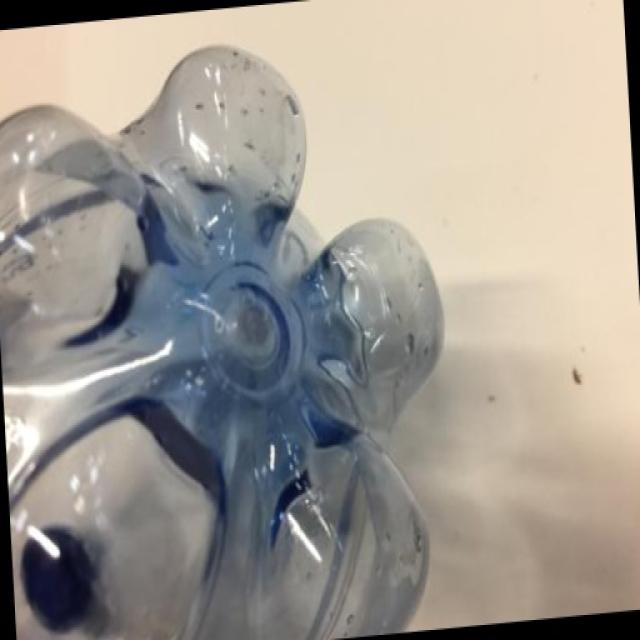plastico: (2, 26, 472, 636)
